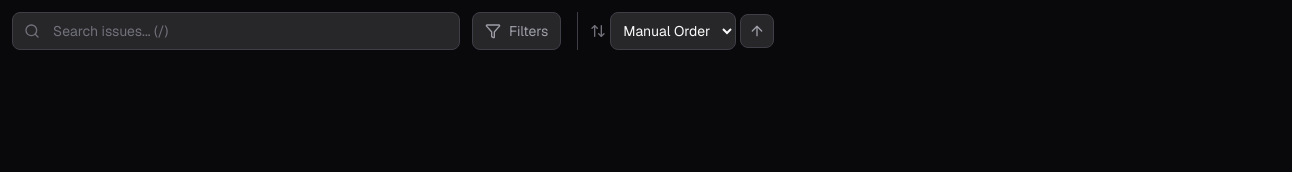
Test case: Date Filter Integration Flow › Date Field Selection Flow › should hide date picker when date field is cleared
Click the button "Filters" at (517, 31), box [472,12,561,50]
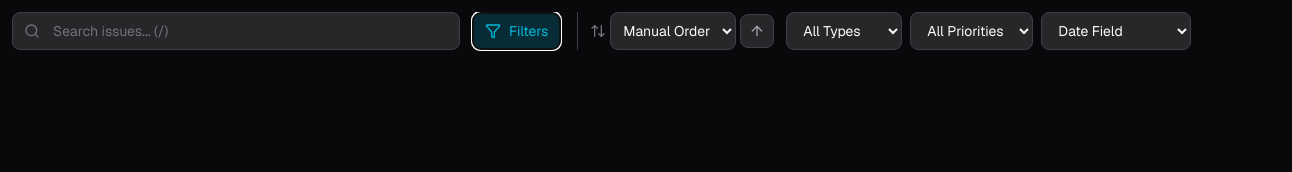
Select a date field
Select "Created Date" in the 4th dropdown showing "Date Field" at (1116, 31), box [1041,12,1191,50]
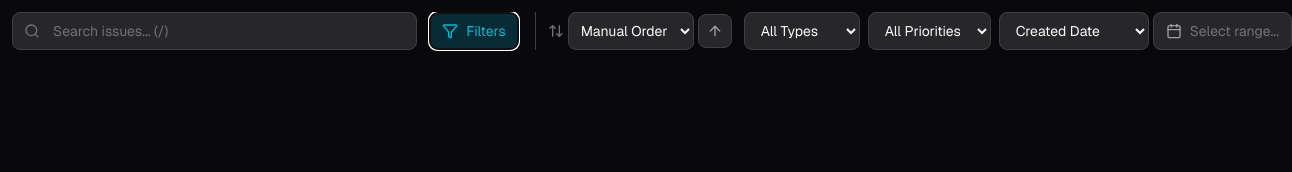
Now the text "Select range..." is shown, box [1190,21,1279,41]
Clear date field back to default
Select "Date Field" in the 4th dropdown showing "Created Date" at (1074, 31), box [999,12,1149,50]
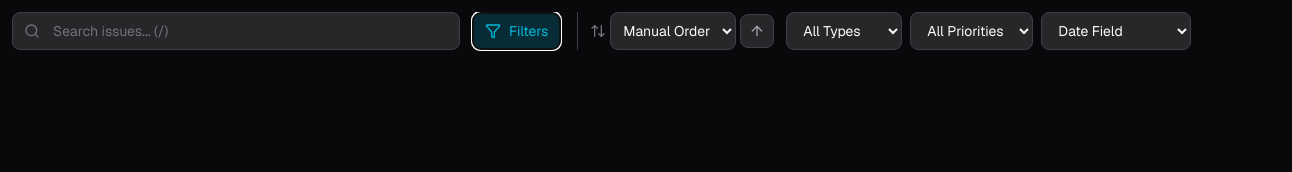
Now the button "Select range..." is gone
